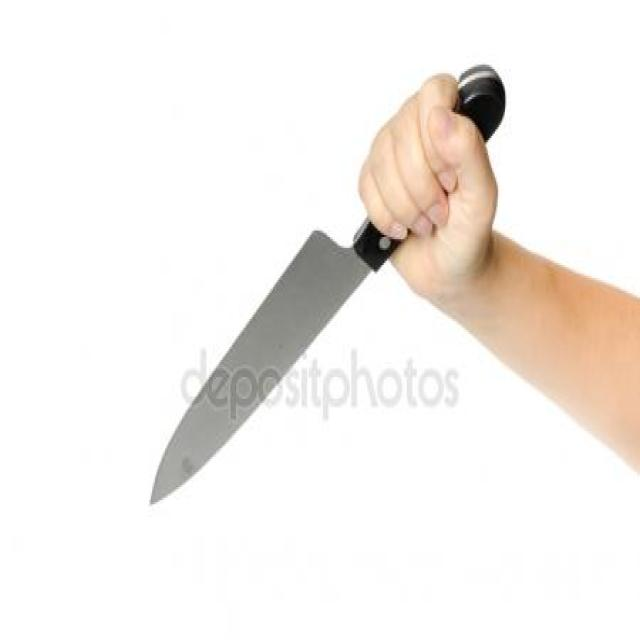knife: (142, 65, 513, 511)
